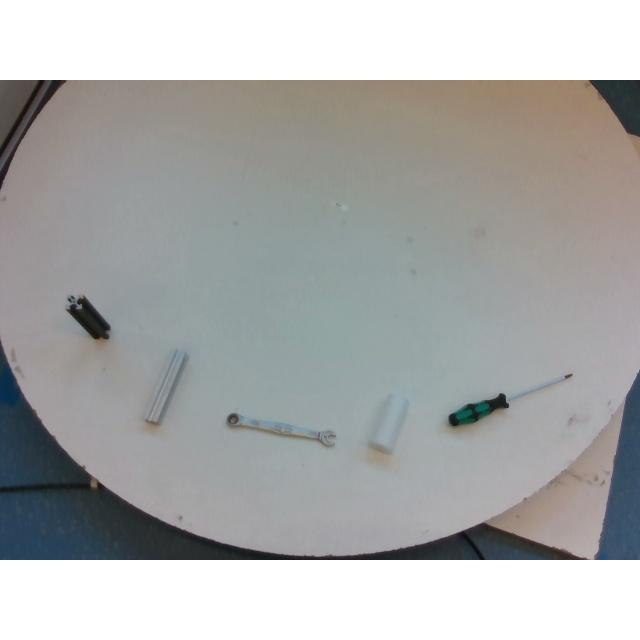F20_20_B: (66, 295, 110, 339)
F20_20_G: (144, 349, 188, 423)
Screwdriver: (448, 370, 572, 426)
Spacer: (370, 393, 408, 453)
Wrench: (226, 412, 336, 446)
